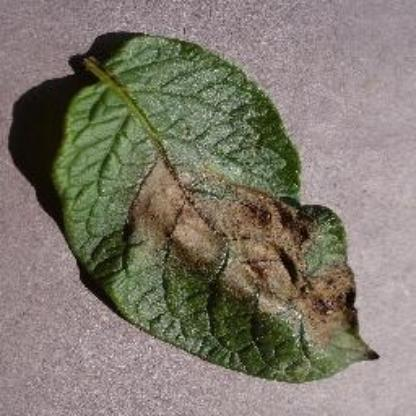Late-Blight: (46, 34, 388, 390)
